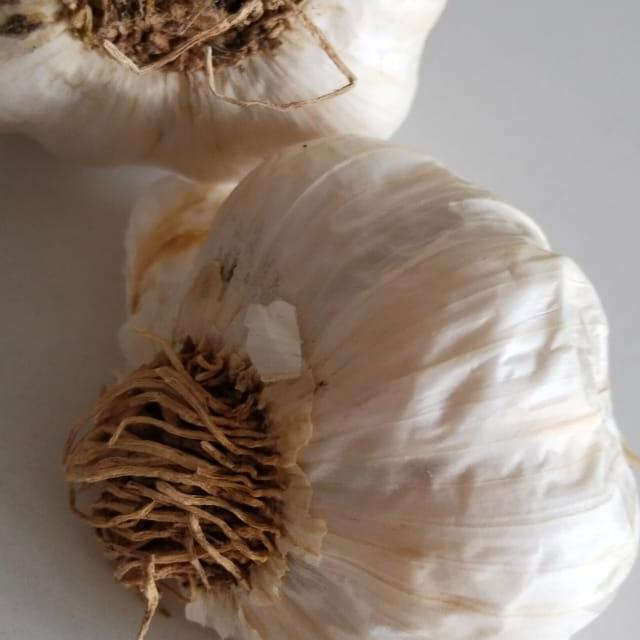garlic: (15, 82, 640, 640), (0, 0, 515, 162)
